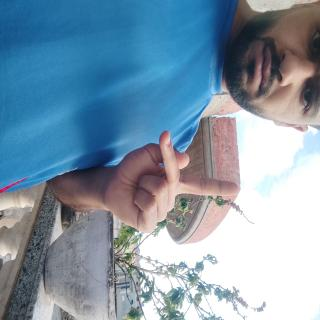DHAA: (94, 103, 182, 292)
